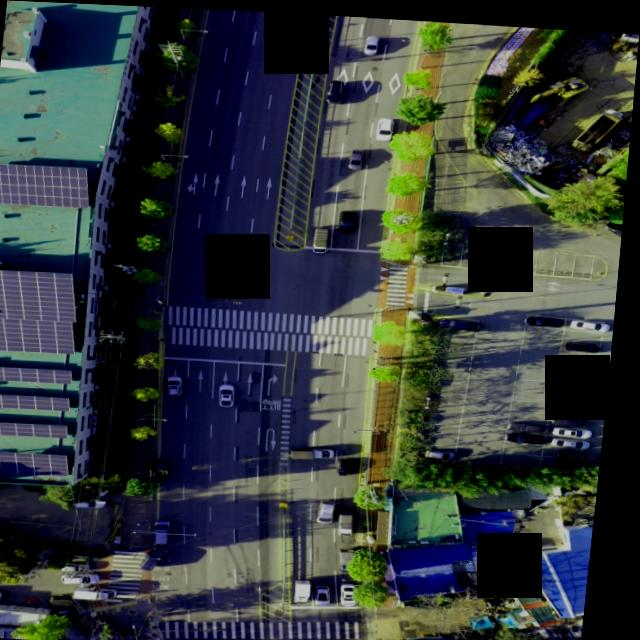car: (147, 541, 181, 571), (438, 312, 483, 327), (70, 571, 111, 585), (509, 427, 553, 440), (161, 517, 182, 544), (326, 77, 349, 101), (574, 313, 613, 326), (555, 410, 600, 421), (530, 310, 569, 322), (567, 336, 605, 348), (78, 496, 115, 508), (376, 114, 395, 137), (559, 446, 602, 456), (558, 420, 597, 431), (514, 416, 553, 427), (561, 389, 596, 401), (566, 368, 603, 379), (71, 559, 102, 572), (224, 383, 241, 406), (559, 434, 597, 444), (326, 498, 343, 520), (341, 208, 358, 230), (349, 579, 366, 601), (561, 400, 595, 411), (566, 357, 602, 367), (174, 373, 191, 393), (362, 33, 379, 53), (564, 379, 597, 389), (349, 148, 365, 167), (324, 582, 339, 600), (430, 446, 459, 455), (0, 518, 14, 536), (344, 455, 358, 472), (0, 590, 13, 601)
small_truck: (79, 583, 127, 600), (298, 442, 344, 457), (315, 222, 334, 251), (159, 457, 181, 482), (345, 509, 367, 532), (303, 576, 322, 600), (347, 544, 364, 570)
